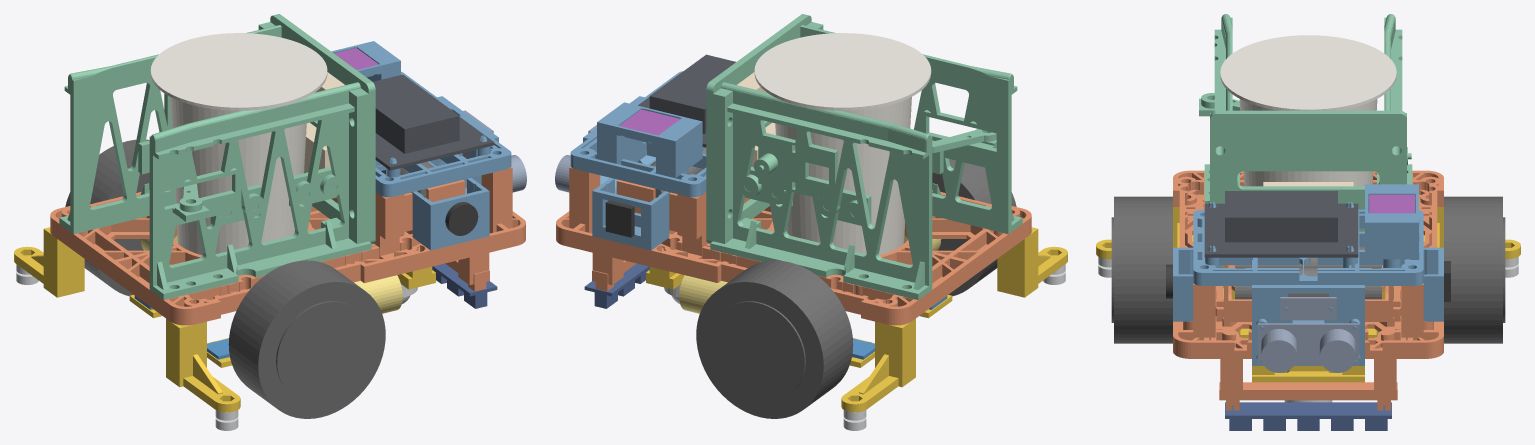
Rendered from carro_armado.glb.
3 views of the same model, side by side, from view 1: azimuth 30°, elevation 25°; view 2: azimuth 150°, elevation 25°; view 3: azimuth 270°, elevation 25° (orthographic).
Parts seen in each view (by area): view 1: pared_cuna_der, comp_ruedas, comp_vaso, chasis, pared_cuna_izq, comp_esp32, piso2_esp32, soporte_rodillo_der, mampara, caja_fusible, soporte_rodillo_izq, zapata_guia (+13 smaller); view 2: pared_cuna_izq, comp_ruedas, comp_vaso, chasis, pared_cuna_der, soporte_tb6612, piso2_esp32, soporte_rodillo_izq, mampara, caja_interruptor, comp_esp32, soporte_rodillo_der (+11 smaller); view 3: comp_ruedas, mampara, comp_vaso, chasis, comp_esp32, piso2_esp32, comp_frente, barra_tcrt5000, comp_ir, escuadra_frontal, soporte_tb6612, pared_cuna_der (+12 smaller).
Part boxes in pixels (x1=…): pared_cuna_der: x1=149, y1=82, x2=371, y2=299; comp_ruedas: x1=65, y1=139, x2=385, y2=418; comp_vaso: x1=150, y1=33, x2=327, y2=255; chasis: x1=50, y1=167, x2=525, y2=325; pared_cuna_izq: x1=59, y1=22, x2=281, y2=234; comp_esp32: x1=373, y1=74, x2=494, y2=170; piso2_esp32: x1=375, y1=71, x2=511, y2=197; soporte_rodillo_der: x1=166, y1=318, x2=240, y2=412; mampara: x1=270, y1=14, x2=375, y2=243; caja_fusible: x1=412, y1=178, x2=489, y2=250; soporte_rodillo_izq: x1=14, y1=227, x2=84, y2=297; zapata_guia: x1=138, y1=140, x2=336, y2=225; pared_cuna_izq: x1=710, y1=82, x2=932, y2=299; comp_ruedas: x1=696, y1=159, x2=1016, y2=418; comp_vaso: x1=754, y1=33, x2=931, y2=255; chasis: x1=556, y1=167, x2=1031, y2=325; pared_cuna_der: x1=800, y1=22, x2=1022, y2=234; soporte_tb6612: x1=597, y1=102, x2=702, y2=178; piso2_esp32: x1=570, y1=71, x2=706, y2=197; soporte_rodillo_izq: x1=841, y1=318, x2=915, y2=412; mampara: x1=706, y1=14, x2=811, y2=243; caja_interruptor: x1=592, y1=178, x2=669, y2=250; comp_esp32: x1=638, y1=54, x2=735, y2=147; soporte_rodillo_der: x1=997, y1=227, x2=1067, y2=297; comp_ruedas: x1=1111, y1=196, x2=1505, y2=343; mampara: x1=1210, y1=110, x2=1406, y2=267; comp_vaso: x1=1220, y1=35, x2=1396, y2=186; chasis: x1=1173, y1=170, x2=1443, y2=358; comp_esp32: x1=1204, y1=191, x2=1358, y2=257; piso2_esp32: x1=1193, y1=202, x2=1423, y2=285; comp_frente: x1=1257, y1=297, x2=1359, y2=372; barra_tcrt5000: x1=1219, y1=331, x2=1397, y2=410; comp_ir: x1=1225, y1=402, x2=1391, y2=430; escuadra_frontal: x1=1252, y1=285, x2=1364, y2=365; soporte_tb6612: x1=1365, y1=184, x2=1418, y2=259; pared_cuna_der: x1=1199, y1=14, x2=1232, y2=203.
Size of the model in its own units: 0.1996 by 0.133 by 0.188.
